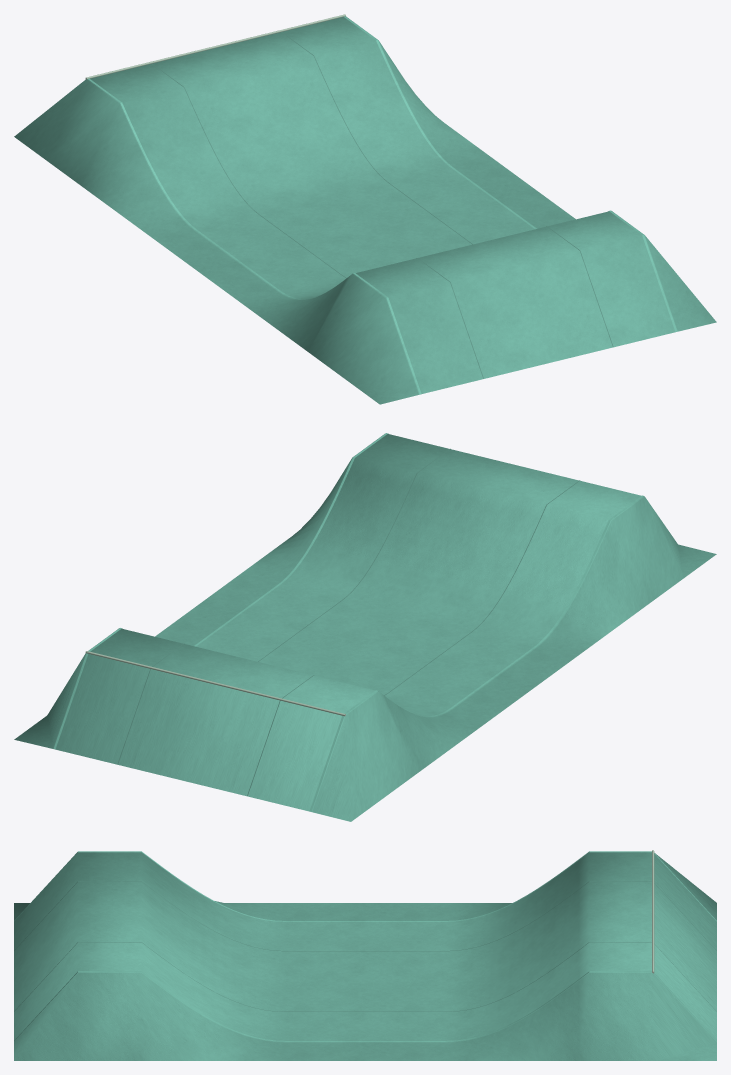
Rendered from tide-halfpipe.glb.
The picture shows the model from 3 angles, top to bottom: view 1: azimuth 30°, elevation 25°; view 2: azimuth 150°, elevation 25°; view 3: azimuth 270°, elevation 25°; orthographic projection. The views are drawn at different scales.
Parts seen in each view (by area): view 1: tide-halfpipe; view 2: tide-halfpipe; view 3: tide-halfpipe.
Boxes of the visible parts, x1,y1,x2,y2 form: tide-halfpipe: [14, 14, 716, 404]; tide-halfpipe: [14, 433, 716, 821]; tide-halfpipe: [14, 850, 716, 1060].
Size of the model in its own units: 11.7 by 2.46 by 22.
Materials: 2 (1 with a texture image).
